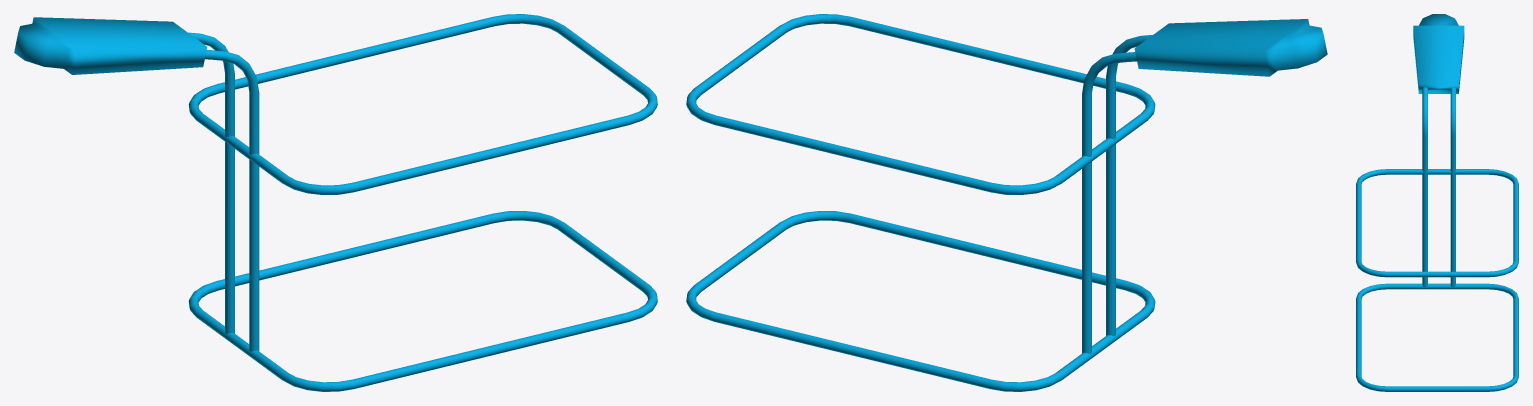
Rendered from Strainer_01_Lod1.fbx.
The picture shows the model from 3 angles, left to right: view 1: azimuth 30°, elevation 25°; view 2: azimuth 150°, elevation 25°; view 3: azimuth 270°, elevation 25°; orthographic projection. The views are drawn at different scales.
Visible parts, largest first — view 1: Strainer_01_Lod1; view 2: Strainer_01_Lod1; view 3: Strainer_01_Lod1.
Part boxes in pixels (<box>): Strainer_01_Lod1: <box>14,14,657,391</box>; Strainer_01_Lod1: <box>686,14,1327,391</box>; Strainer_01_Lod1: <box>1356,14,1518,391</box>.
Size of the model in its own units: 45.34 by 26.97 by 18.69.
